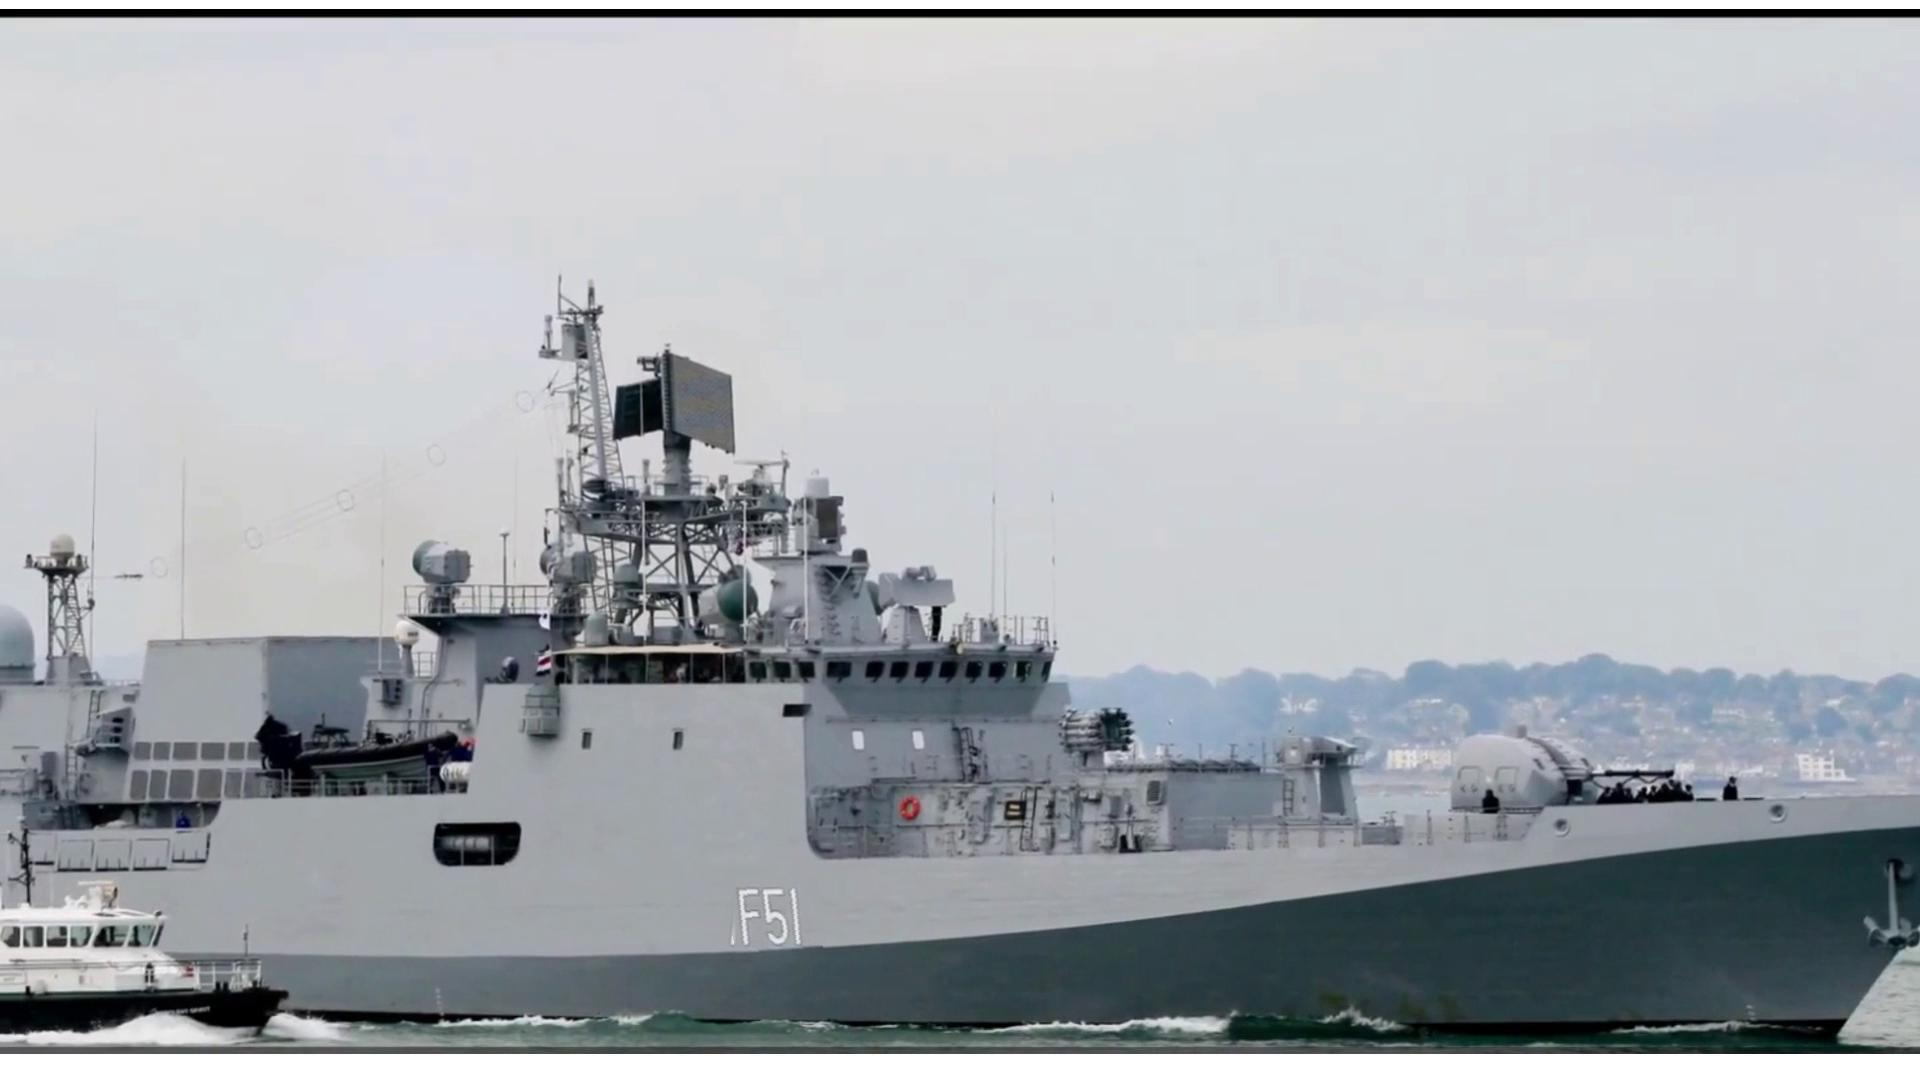OCR: (721, 876, 823, 964)
